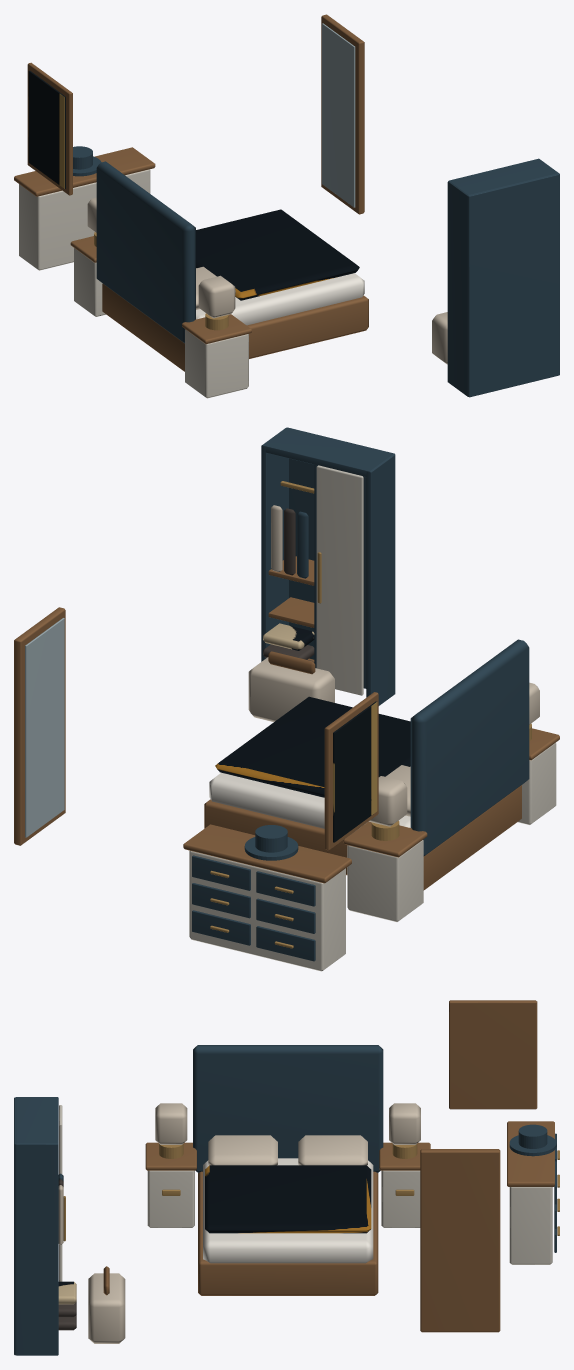
Rendered from bedroom-furniture-v002.glb.
3 views of the same model, one above another, from view 1: azimuth 30°, elevation 25°; view 2: azimuth 150°, elevation 25°; view 3: azimuth 270°, elevation 25° (orthographic). The views are drawn at different scales.
Parts seen in each view (by area): view 1: Export Bed frame; view 2: Export Bed frame; view 3: Export Bed frame.
Boxes of the visible parts, box(x1,y1,x2,y2) form: Export Bed frame: box(14, 14, 559, 398); Export Bed frame: box(14, 427, 559, 971); Export Bed frame: box(14, 1000, 559, 1355).
Size of the model in its own units: 3.47 by 2.29 by 5.33.
11 materials, 3 textured.
